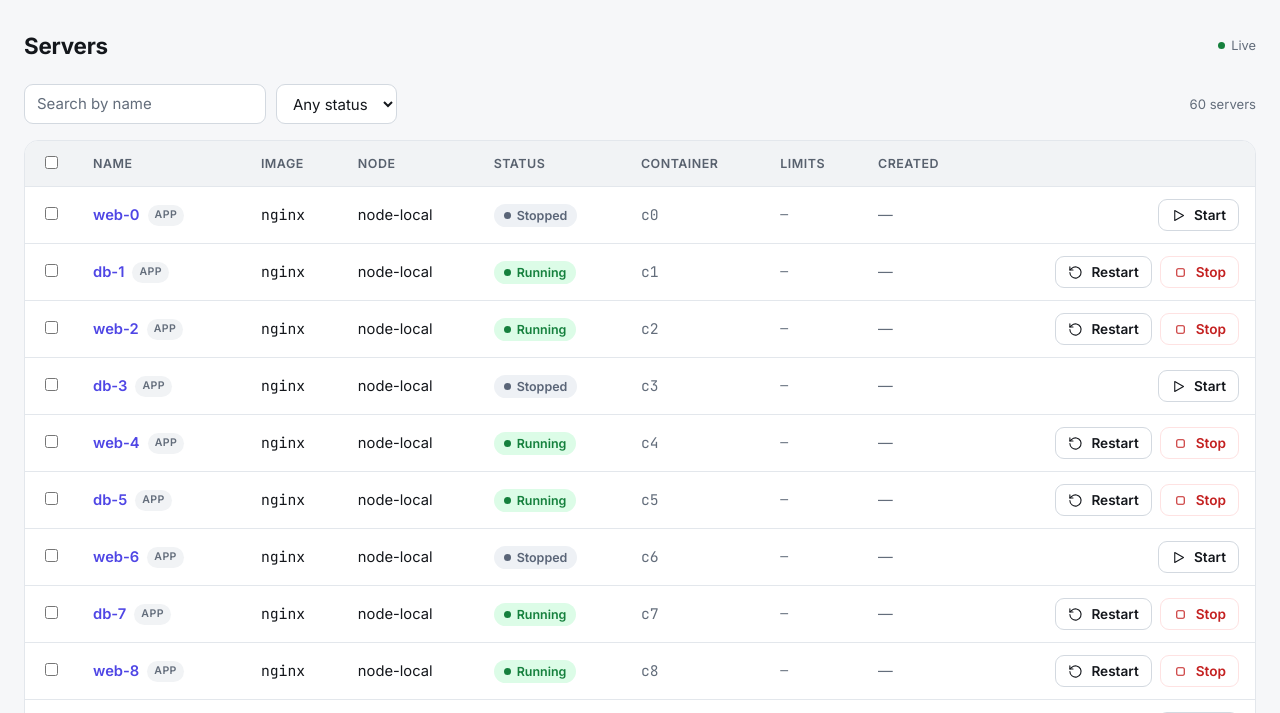
Test: Servers list at scale › filters by status
Expected: the button "web-0" is shown, [93, 204, 140, 227]
Select "Stopped" in the dropdown named "filter by status". click: (336, 104)
box: [276, 84, 397, 124]
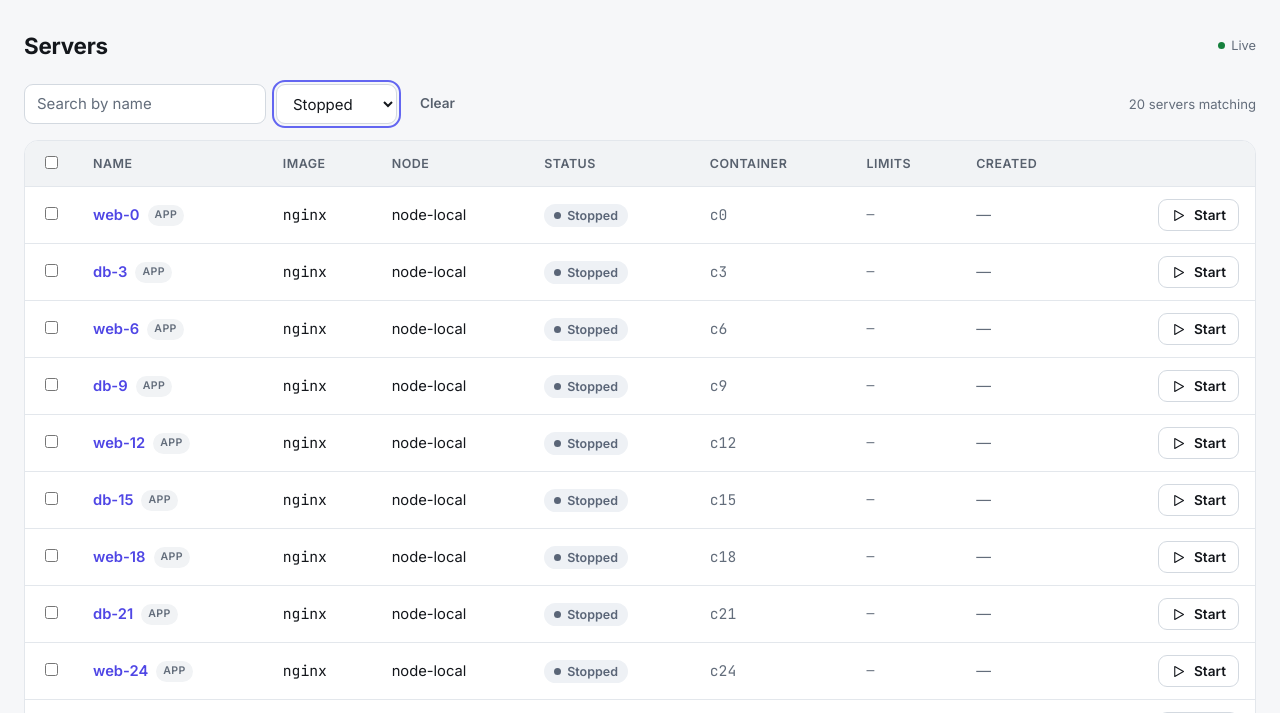
Expected: the text "20 servers matching" is shown, [1129, 94, 1256, 114]
